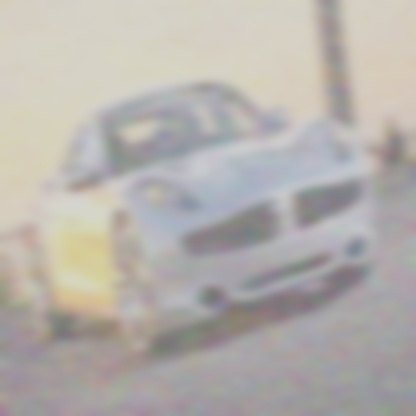Vehicle: (26, 87, 382, 358)
